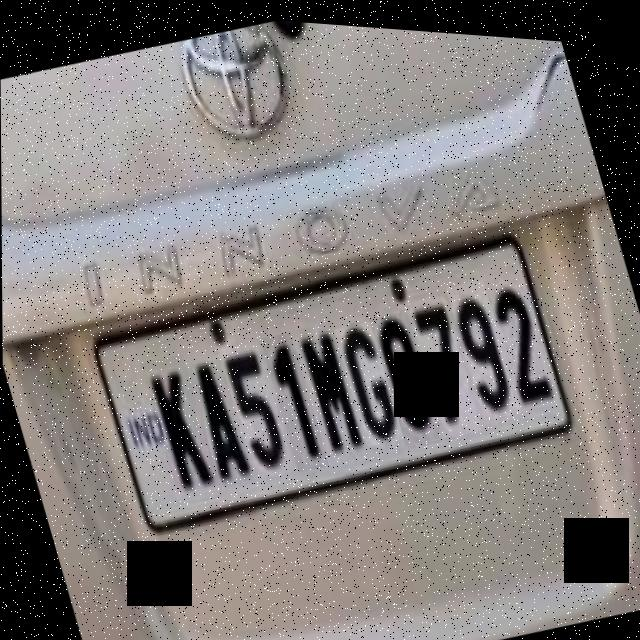0: (369, 303, 444, 441)
1: (259, 325, 328, 468)
5: (216, 334, 294, 477)
7: (407, 286, 481, 432)
9: (445, 269, 521, 415)
A: (183, 352, 256, 487)
G: (333, 312, 405, 443)
K: (139, 348, 219, 493)
M: (294, 315, 367, 454)
